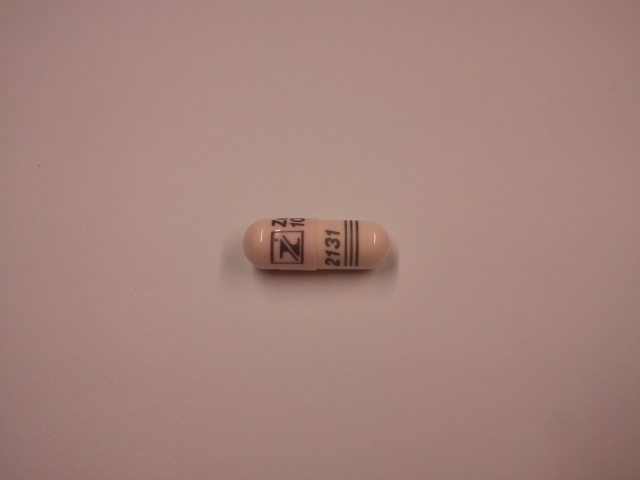capsule: (244, 215, 394, 273)
